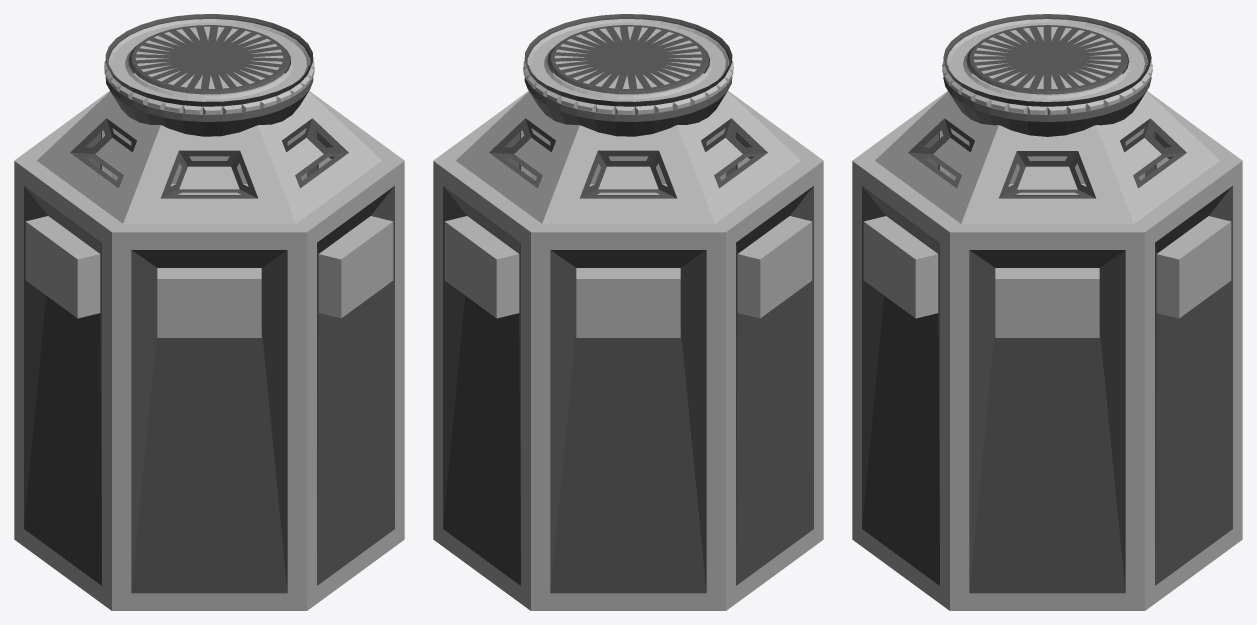
The model's file is tower_artillery_base.dae.
3 renders of one model, left to right at view 1: azimuth 30°, elevation 25°; view 2: azimuth 150°, elevation 25°; view 3: azimuth 270°, elevation 25°, orthographic.
Parts seen in each view (by area): view 1: tower_artillery_base; view 2: tower_artillery_base; view 3: tower_artillery_base.
Boxes of the visible parts, <box> form: tower_artillery_base: <box>14,14,404,610</box>; tower_artillery_base: <box>433,14,823,610</box>; tower_artillery_base: <box>852,14,1242,610</box>.
Size of the model in its own units: 13.99 by 15 by 20.4.
